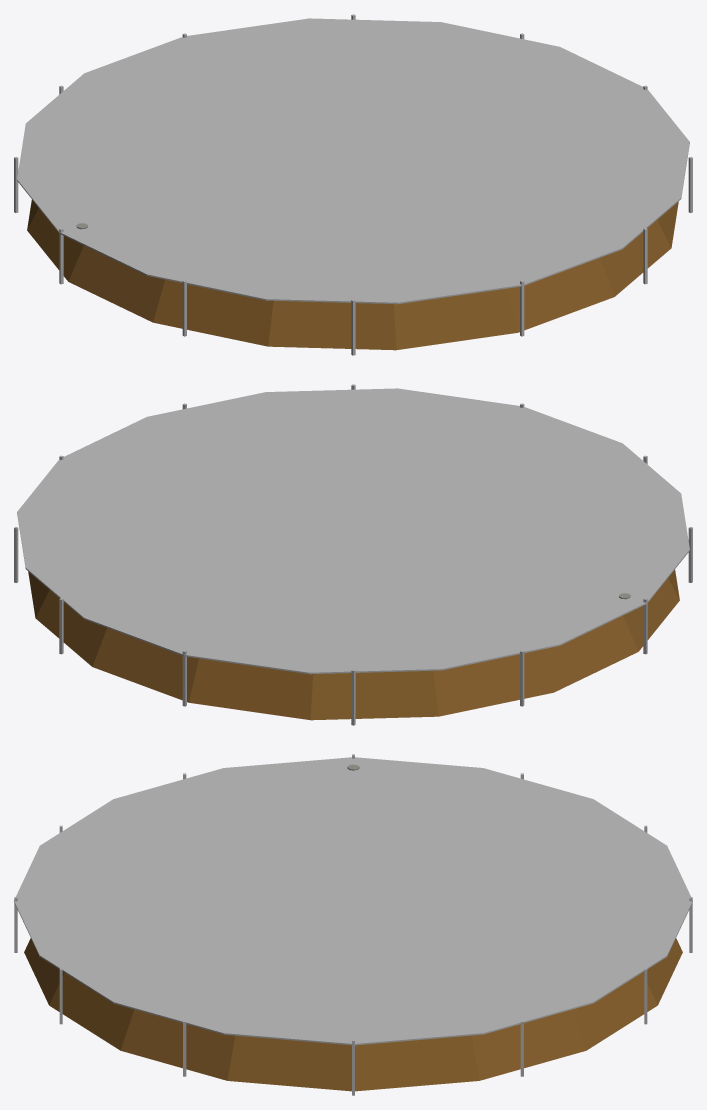
File: SM_Balsa_v3_Vallada_LOD0.fbx
3 renders of one model, top to bottom at view 1: azimuth 30°, elevation 25°; view 2: azimuth 150°, elevation 25°; view 3: azimuth 270°, elevation 25°, orthographic.
Parts seen in each view (by area): view 1: SM_viveres_nules_v18_LOD0; view 2: SM_viveres_nules_v18_LOD0; view 3: SM_viveres_nules_v18_LOD0.
Boxes of the visible parts, x1,y1,x2,y2 form: SM_viveres_nules_v18_LOD0: (14, 14, 692, 355); SM_viveres_nules_v18_LOD0: (14, 384, 692, 725); SM_viveres_nules_v18_LOD0: (14, 754, 692, 1095).
Size of the model in its own units: 16.9 by 1.5 by 16.9.
